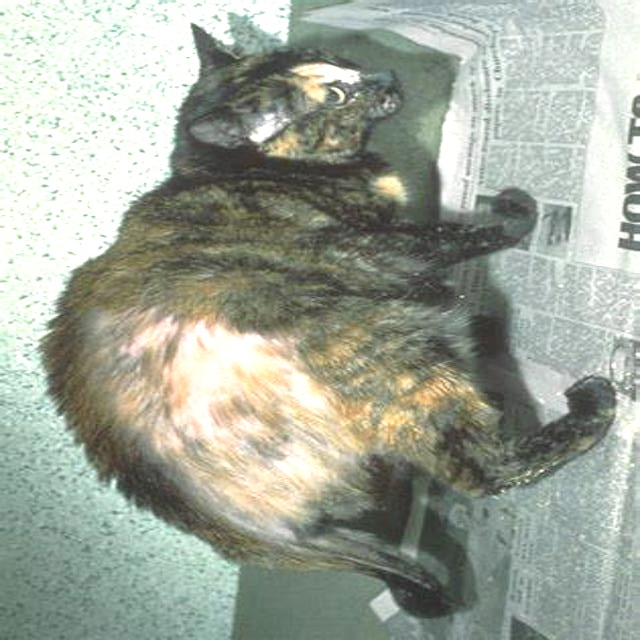hairloss: (126, 334, 307, 541)
